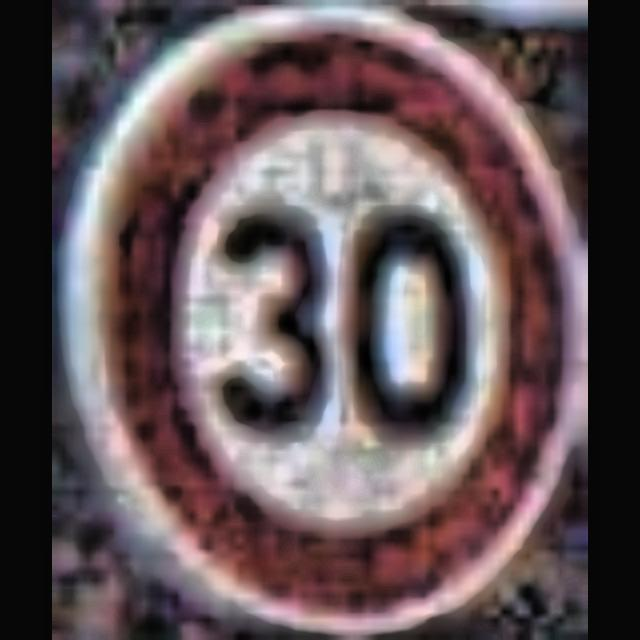speed_30: (97, 27, 576, 626)
